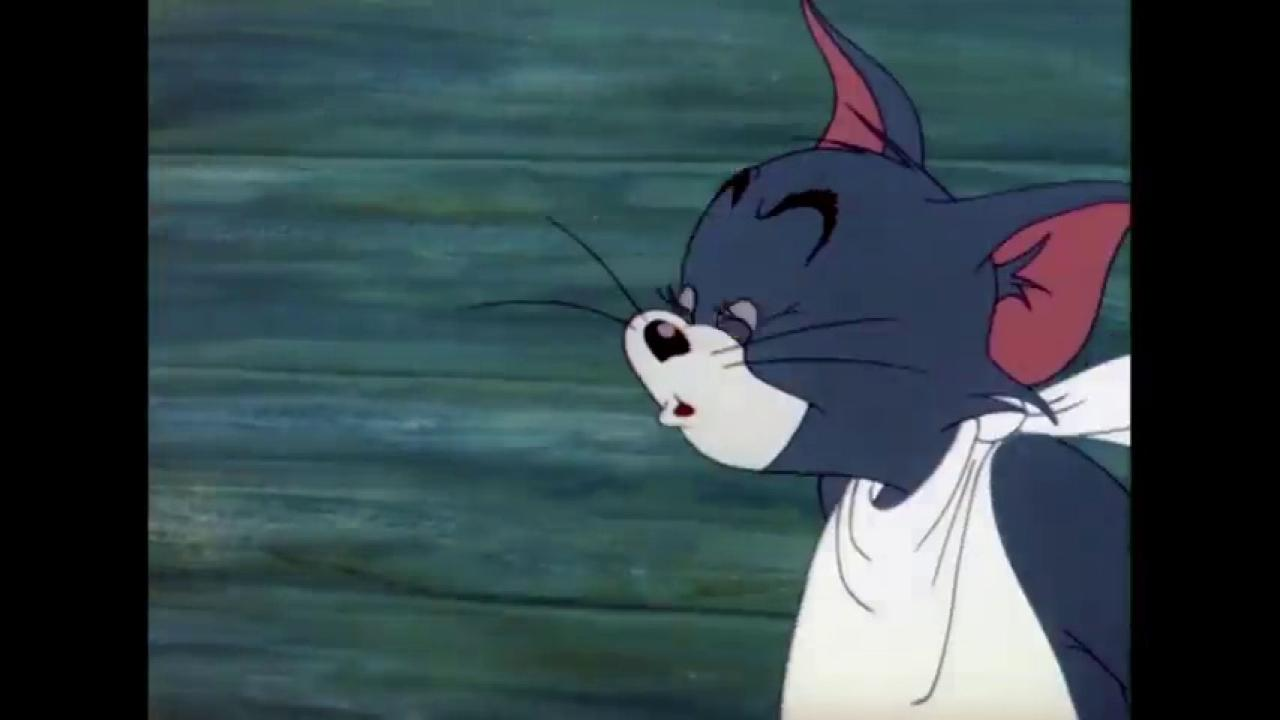Tom: (619, 0, 1130, 720)
